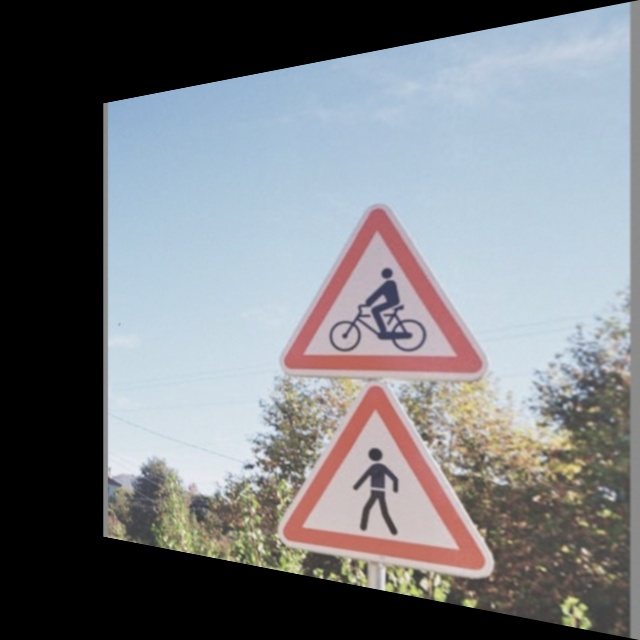Cycle_Crossing: (279, 195, 485, 379)
